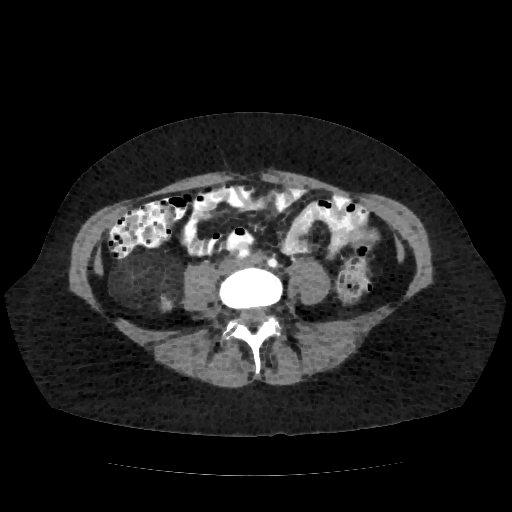Lesion: (105, 259, 187, 321)
